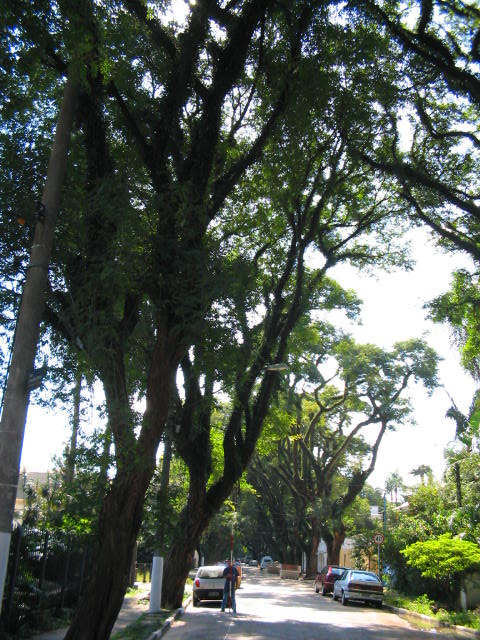stem: (56, 470, 159, 640), (154, 504, 215, 609)
stick: (226, 520, 236, 613)
tree: (1, 2, 310, 640), (133, 5, 369, 609)
